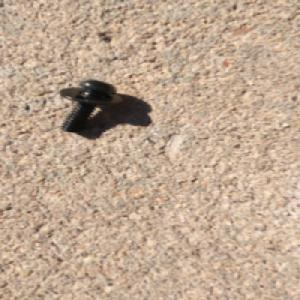BoltWasher: (57, 77, 126, 133)
